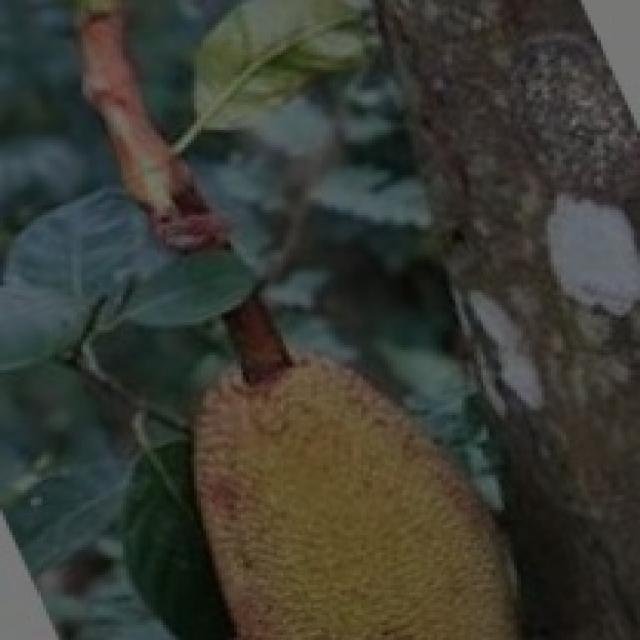Fruit: (206, 272, 585, 640)
